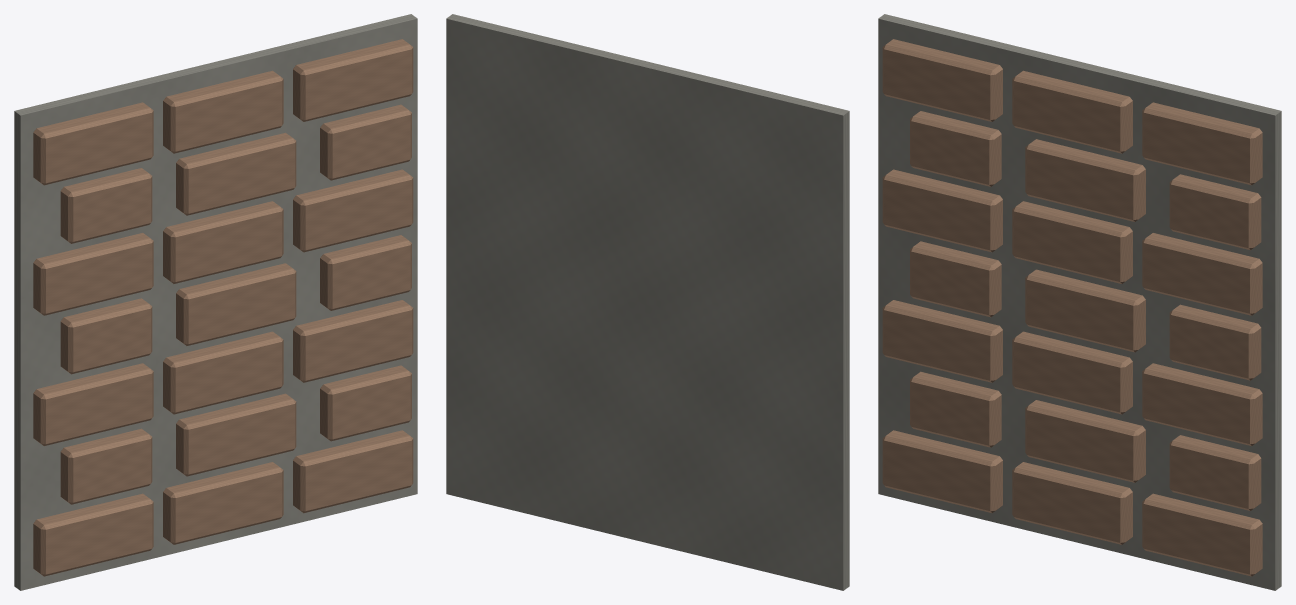
The model's file is D_MasonryPatch_Narrow_visual.glb.
The picture shows the model from 3 angles, left to right: view 1: azimuth 30°, elevation 25°; view 2: azimuth 150°, elevation 25°; view 3: azimuth 330°, elevation 25°; orthographic projection.
Parts seen in each view (by area): view 1: D_MasonryPatch_Narrow__VIS; view 2: D_MasonryPatch_Narrow__VIS; view 3: D_MasonryPatch_Narrow__VIS.
Part boxes in pixels (<box>): D_MasonryPatch_Narrow__VIS: <box>14,14,417,590</box>; D_MasonryPatch_Narrow__VIS: <box>446,14,849,590</box>; D_MasonryPatch_Narrow__VIS: <box>878,14,1281,590</box>.
Bounding box in the file's own units: 3.06 × 3.5 × 0.215.
1 material, 1 textured.
